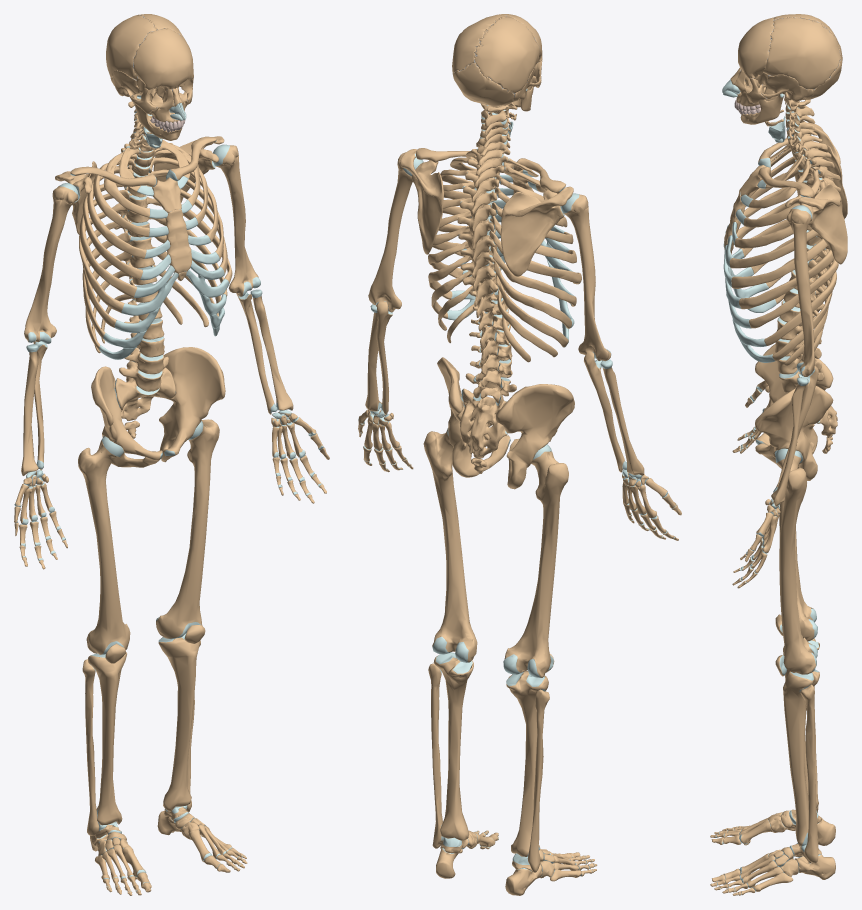
Rendered from skeletal-system.glb.
3 views of the same model, side by side, from view 1: azimuth 30°, elevation 25°; view 2: azimuth 150°, elevation 25°; view 3: azimuth 270°, elevation 25° (orthographic). The views are drawn at different scales.
Visible parts, largest first — view 1: object 1, Femur.r, Femur.l, Hip bone.l, Tibia.l, Tibia.r, Humerus.r, Humerus.l, Hip bone.r, Fibula.r, Radius.r, Radius.l (+13 smaller); view 2: object 1, Femur.r, Femur.l, Hip bone.r, Scapula.r, Tibia.l, Tibia.r, Humerus.r, Humerus.l, Hip bone.l, Scapula.l, Fibula.r (+11 smaller); view 3: object 1, Femur.l, Tibia.l, Hip bone.l, Humerus.l, Scapula.l, Fibula.l, Hip bone.r, Radius.l, Femur.r, Seventh rib.l, Sixth rib.l (+20 smaller).
Boxes of the visible parts, x1,y1,x2,y2 form: object 1: [106, 14, 193, 438]; Femur.r: [78, 436, 130, 654]; Femur.l: [156, 419, 219, 639]; Hip bone.l: [159, 347, 225, 462]; Tibia.l: [158, 633, 200, 811]; Tibia.r: [88, 652, 126, 825]; Humerus.r: [24, 183, 78, 343]; Humerus.l: [213, 144, 260, 296]; Hip bone.r: [91, 366, 162, 467]; Fibula.r: [82, 659, 99, 835]; Radius.r: [21, 344, 38, 475]; Radius.l: [250, 289, 293, 410]; object 1: [452, 14, 542, 473]; Femur.r: [503, 444, 568, 677]; Femur.l: [423, 428, 477, 662]; Hip bone.r: [495, 384, 574, 489]; Scapula.r: [501, 186, 573, 276]; Tibia.l: [433, 652, 473, 840]; Tibia.r: [506, 671, 548, 856]; Humerus.r: [561, 193, 611, 361]; Humerus.l: [368, 152, 423, 312]; Hip bone.l: [437, 357, 510, 477]; Scapula.l: [400, 149, 443, 254]; Fibula.r: [527, 689, 549, 872]; object 1: [722, 14, 842, 453]; Femur.l: [775, 448, 817, 674]; Tibia.l: [783, 669, 819, 846]; Hip bone.l: [755, 386, 833, 480]; Humerus.l: [786, 205, 815, 376]; Scapula.l: [785, 183, 847, 264]; Fibula.l: [800, 684, 818, 863]; Hip bone.r: [755, 344, 833, 453]; Radius.l: [771, 377, 808, 506]; Femur.r: [779, 495, 817, 641]; Seventh rib.l: [739, 249, 834, 309]; Sixth rib.l: [731, 239, 827, 288].
Bounding box in the file's own units: 0.6692 × 1.7 × 0.2501.
